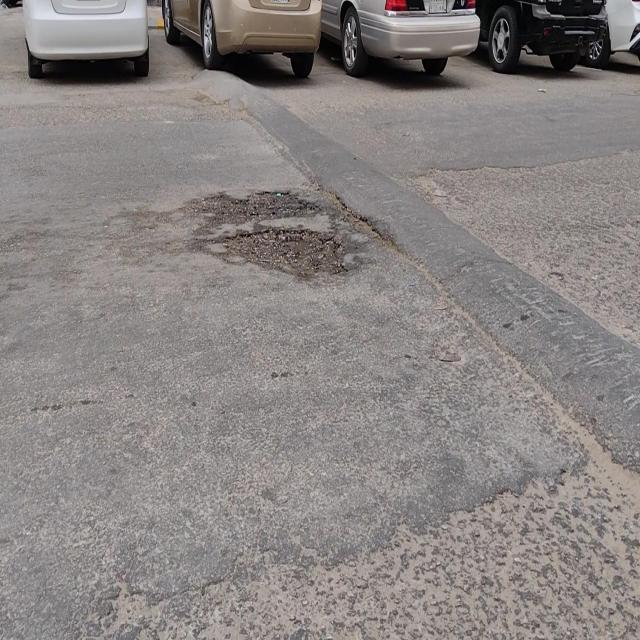Potholes: (211, 223, 347, 283), (202, 183, 322, 228)
